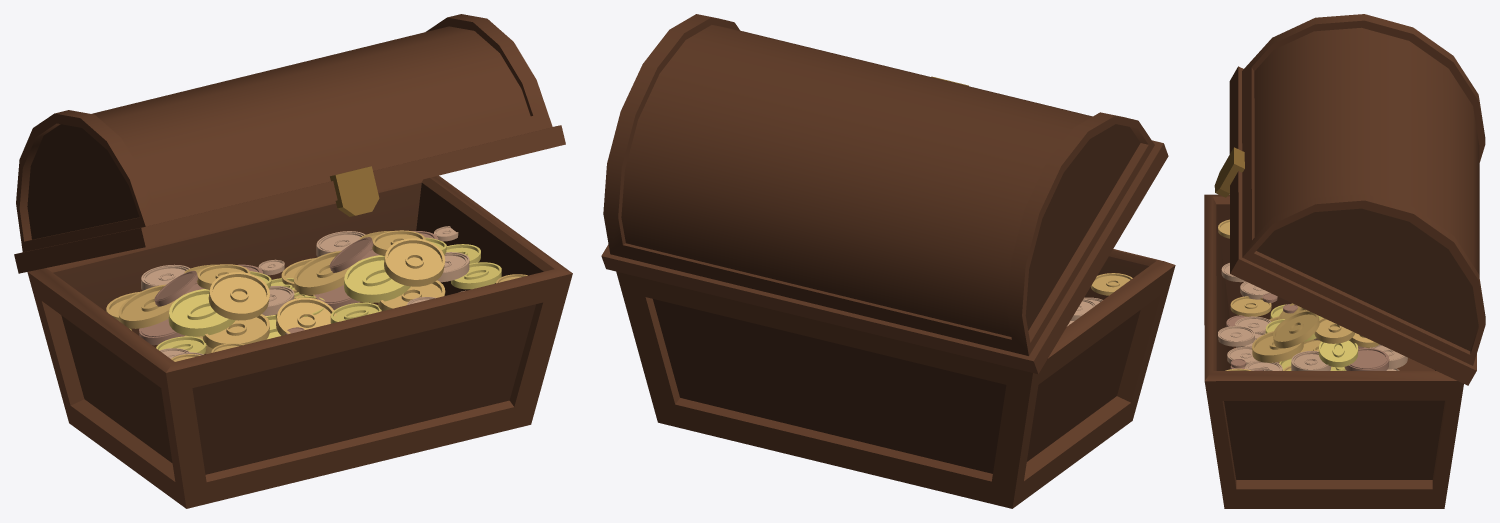
File: Forziere+coin.fbx
3 renders of one model, left to right at view 1: azimuth 30°, elevation 25°; view 2: azimuth 150°, elevation 25°; view 3: azimuth 270°, elevation 25°, orthographic. The views are drawn at different scales.
Parts seen in each view (by area): view 1: Treasure Chest 1.003; view 2: Treasure Chest 1.003; view 3: Treasure Chest 1.003.
Part boxes in pixels (bbox=[...]): Treasure Chest 1.003: bbox=[14, 14, 572, 508]; Treasure Chest 1.003: bbox=[601, 14, 1175, 508]; Treasure Chest 1.003: bbox=[1204, 14, 1485, 508].
Size of the model in its own units: 208 by 162 by 128.
